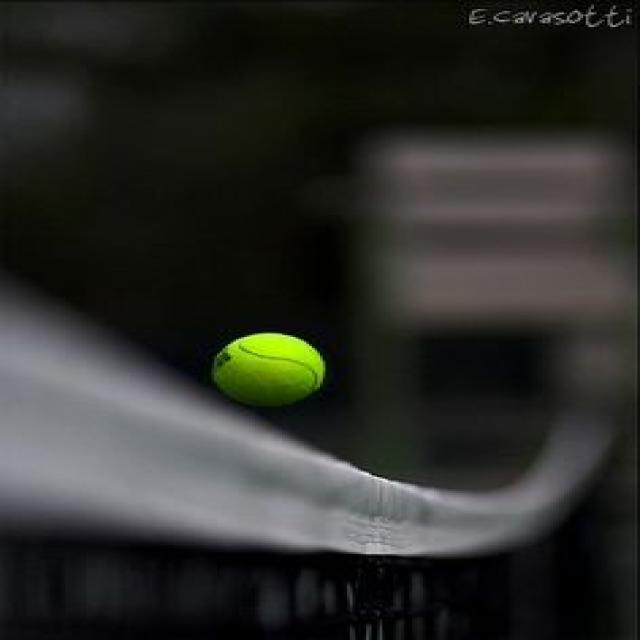tennis: (202, 328, 334, 407)
